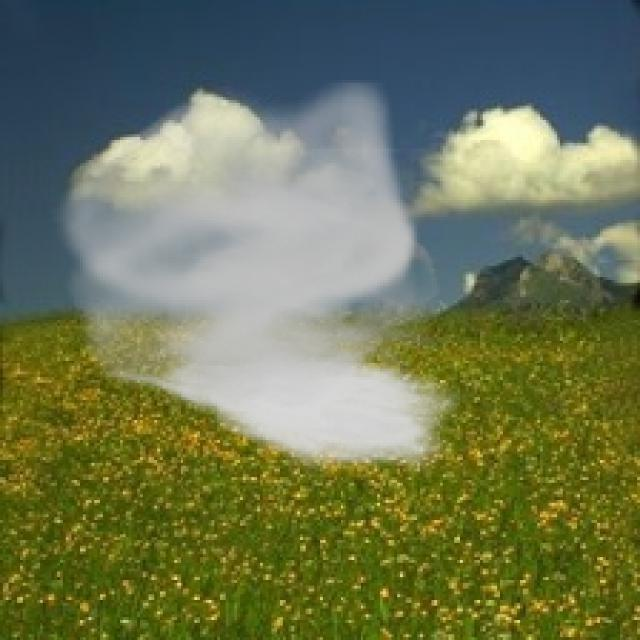Smoke: (48, 80, 466, 474)
